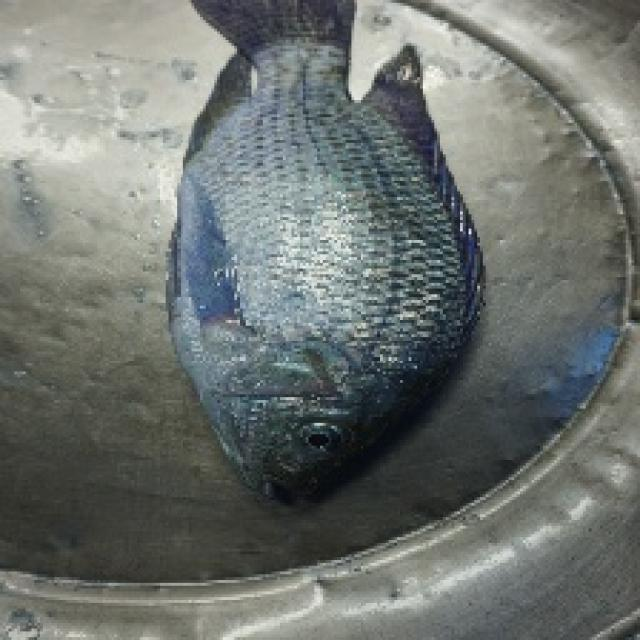Fresh: (159, 66, 487, 519)
